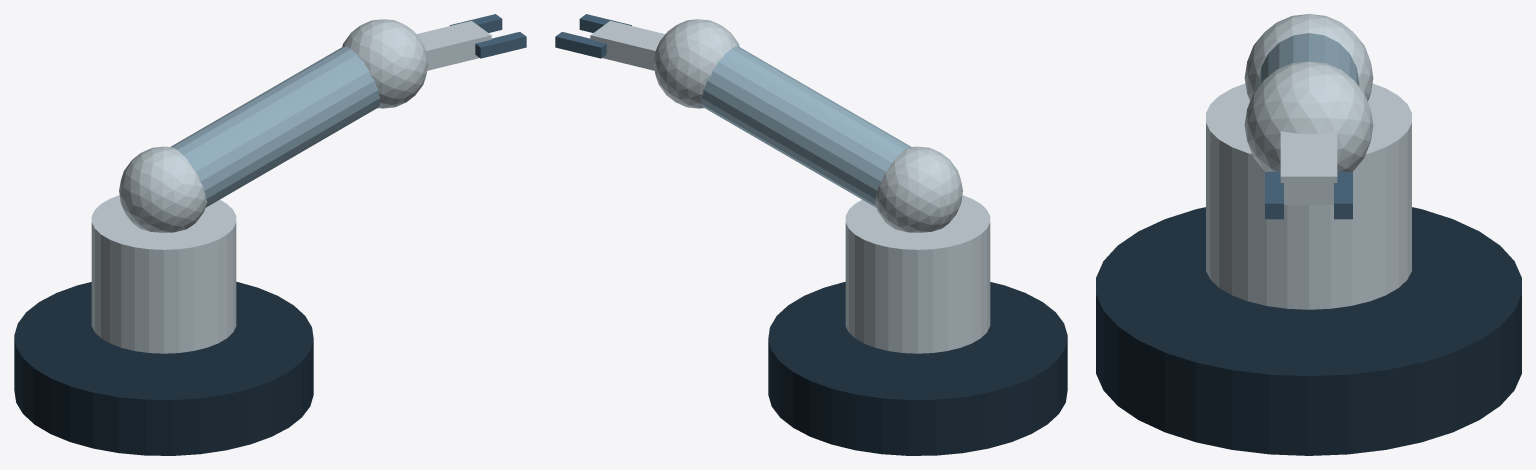
The model's file is 10_L76_AutomatedWaferTransferRobot.fbx.
3 renders of one model, left to right at view 1: azimuth 30°, elevation 25°; view 2: azimuth 150°, elevation 25°; view 3: azimuth 270°, elevation 25°, orthographic. The views are drawn at different scales.
Parts seen in each view (by area): view 1: AutomatedWaferTransferRobot, AutomatedWaferTransferRobot_Part_0001, AutomatedWaferTransferRobot_Part_0002, AutomatedWaferTransferRobot_Part_0003, AutomatedWaferTransferRobot_Part_0004, AutomatedWaferTransferRobot_Part_0005, AutomatedWaferTransferRobot_Part_0007; view 2: AutomatedWaferTransferRobot, AutomatedWaferTransferRobot_Part_0001, AutomatedWaferTransferRobot_Part_0002, AutomatedWaferTransferRobot_Part_0003, AutomatedWaferTransferRobot_Part_0004, AutomatedWaferTransferRobot_Part_0005, AutomatedWaferTransferRobot_Part_0006; view 3: AutomatedWaferTransferRobot, AutomatedWaferTransferRobot_Part_0001, AutomatedWaferTransferRobot_Part_0004, AutomatedWaferTransferRobot_Part_0005, AutomatedWaferTransferRobot_Part_0003, AutomatedWaferTransferRobot_Part_0002, AutomatedWaferTransferRobot_Part_0006, AutomatedWaferTransferRobot_Part_0007.
Boxes of the visible parts, box(x1,y1,x2,y2) form: AutomatedWaferTransferRobot: box(14, 281, 313, 455); AutomatedWaferTransferRobot_Part_0001: box(91, 195, 236, 353); AutomatedWaferTransferRobot_Part_0002: box(171, 46, 380, 207); AutomatedWaferTransferRobot_Part_0003: box(119, 146, 207, 232); AutomatedWaferTransferRobot_Part_0004: box(342, 19, 428, 108); AutomatedWaferTransferRobot_Part_0005: box(416, 21, 491, 70); AutomatedWaferTransferRobot_Part_0007: box(475, 32, 526, 58); AutomatedWaferTransferRobot: box(768, 281, 1067, 455); AutomatedWaferTransferRobot_Part_0001: box(845, 195, 990, 353); AutomatedWaferTransferRobot_Part_0002: box(701, 46, 910, 207); AutomatedWaferTransferRobot_Part_0003: box(874, 146, 962, 232); AutomatedWaferTransferRobot_Part_0004: box(653, 19, 739, 108); AutomatedWaferTransferRobot_Part_0005: box(590, 21, 665, 70); AutomatedWaferTransferRobot_Part_0006: box(555, 32, 606, 58); AutomatedWaferTransferRobot: box(1096, 207, 1521, 455); AutomatedWaferTransferRobot_Part_0001: box(1206, 83, 1411, 309); AutomatedWaferTransferRobot_Part_0004: box(1244, 61, 1373, 171); AutomatedWaferTransferRobot_Part_0005: box(1280, 131, 1337, 204); AutomatedWaferTransferRobot_Part_0003: box(1244, 14, 1373, 100); AutomatedWaferTransferRobot_Part_0002: box(1258, 33, 1359, 85); AutomatedWaferTransferRobot_Part_0006: box(1334, 171, 1352, 219); AutomatedWaferTransferRobot_Part_0007: box(1265, 171, 1283, 219).
Size of the model in its own units: 250 by 158 by 135.
